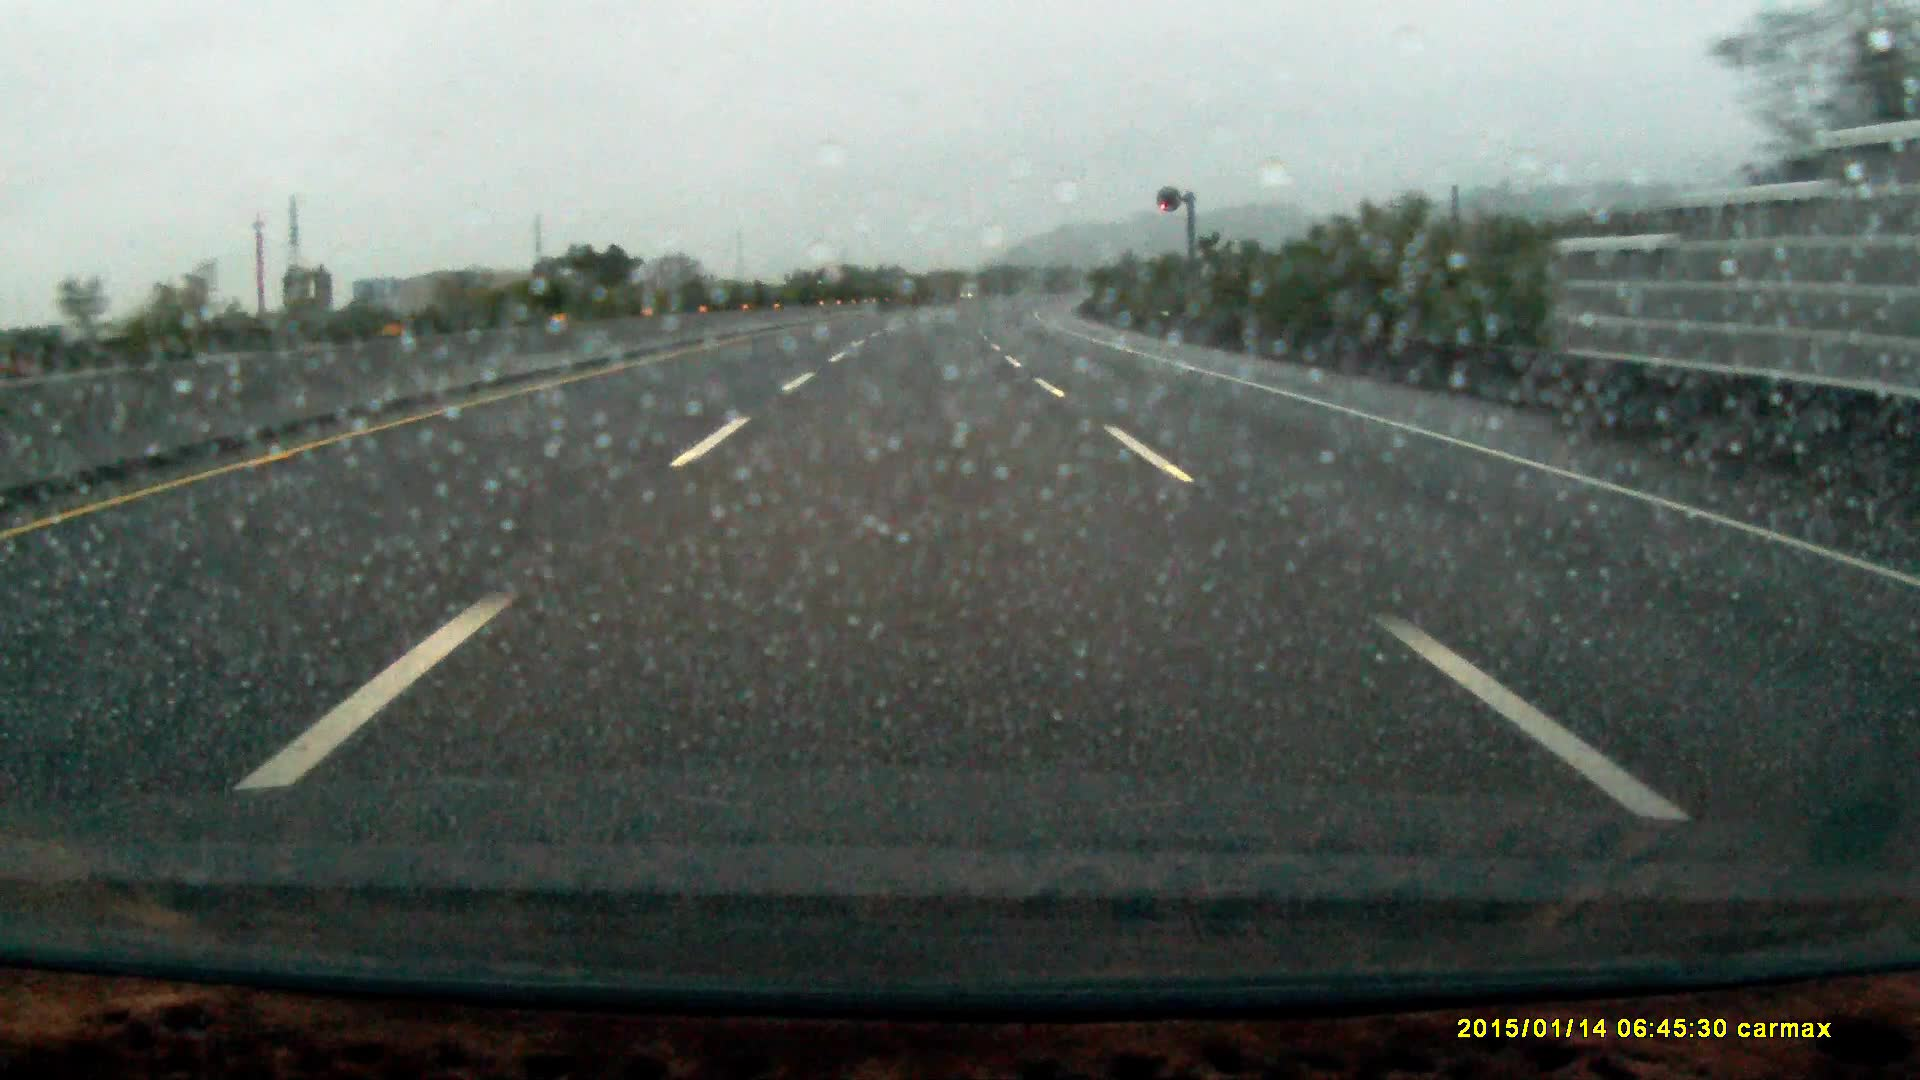vehicle: (815, 268, 855, 305)
